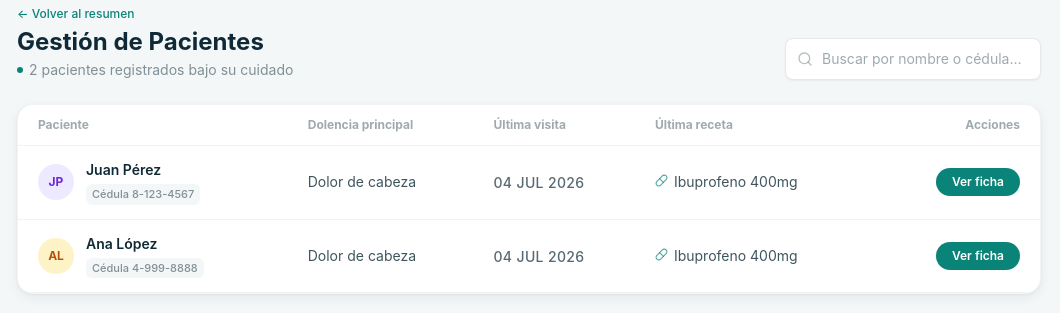
Scenario: <PacientesMedico /> › filtra por nombre al escribir en el buscador
Expected: the text "Juan Pérez" is shown, [86,161,161,178]
Expected: the text "Ana López" is shown, [86,234,158,252]
Type "ana" into the field with placeholder "Buscar por nombre o cédula…".
click(913, 59); type("ana")  # box [785,38,1041,80]
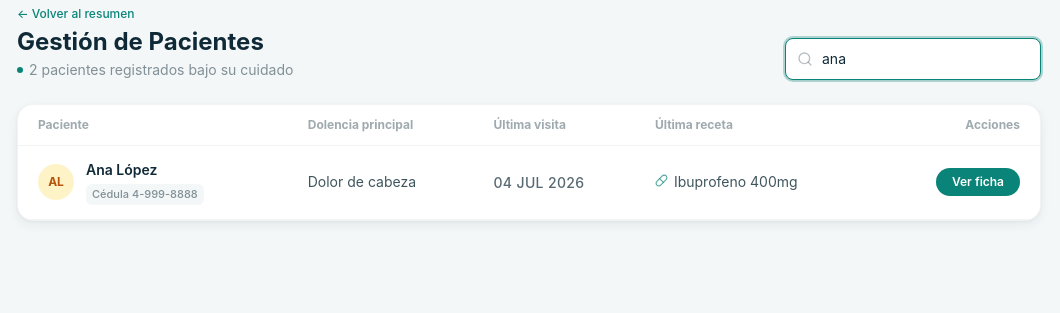
Expected: the text "Ana López" is shown, [86,161,158,178]
Expected: the text "Juan Pérez" is gone
